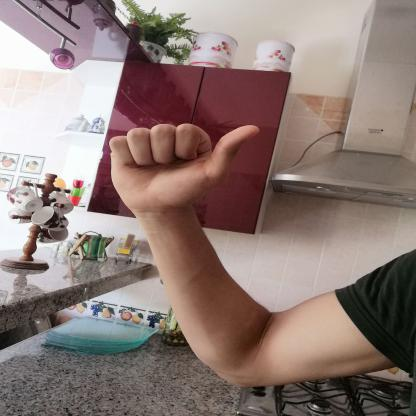DAD: (93, 113, 270, 224)
